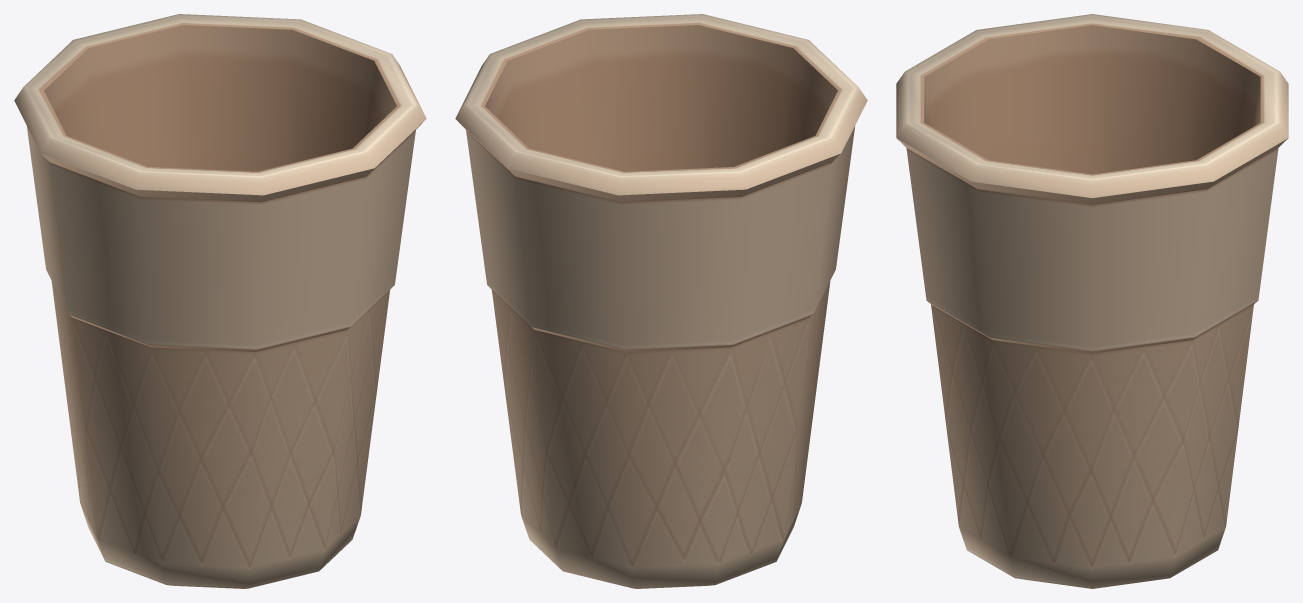
File: bathroom_trashcan.fbx
The picture shows the model from 3 angles, left to right: view 1: azimuth 30°, elevation 25°; view 2: azimuth 150°, elevation 25°; view 3: azimuth 270°, elevation 25°; orthographic projection.
Visible parts, largest first — view 1: bathroom_trashcan; view 2: bathroom_trashcan; view 3: bathroom_trashcan.
Part boxes in pixels (x1,y1,x2,y2): bathroom_trashcan: (14, 14, 426, 588); bathroom_trashcan: (455, 14, 867, 588); bathroom_trashcan: (896, 14, 1288, 588).
Size of the model in its own units: 26.88 by 31.88 by 25.56.
